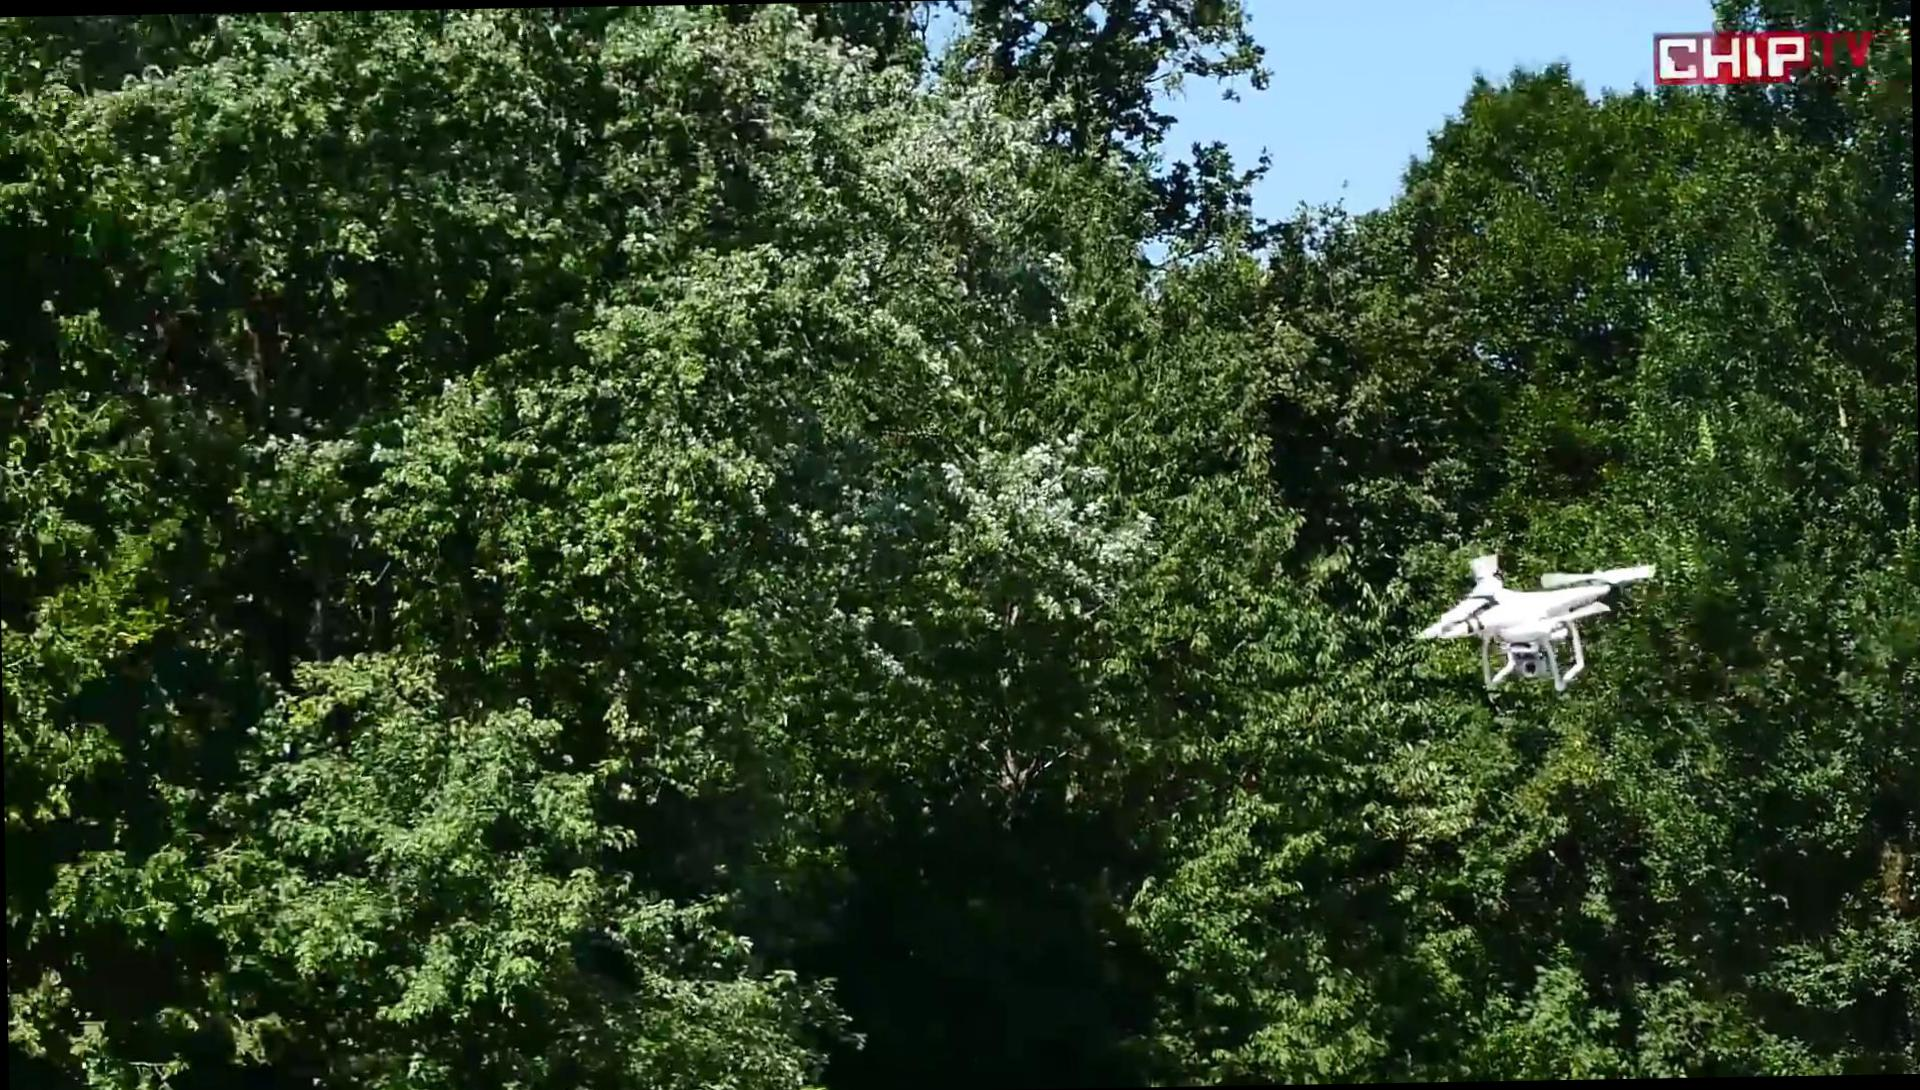drone: (1415, 546, 1659, 695)
